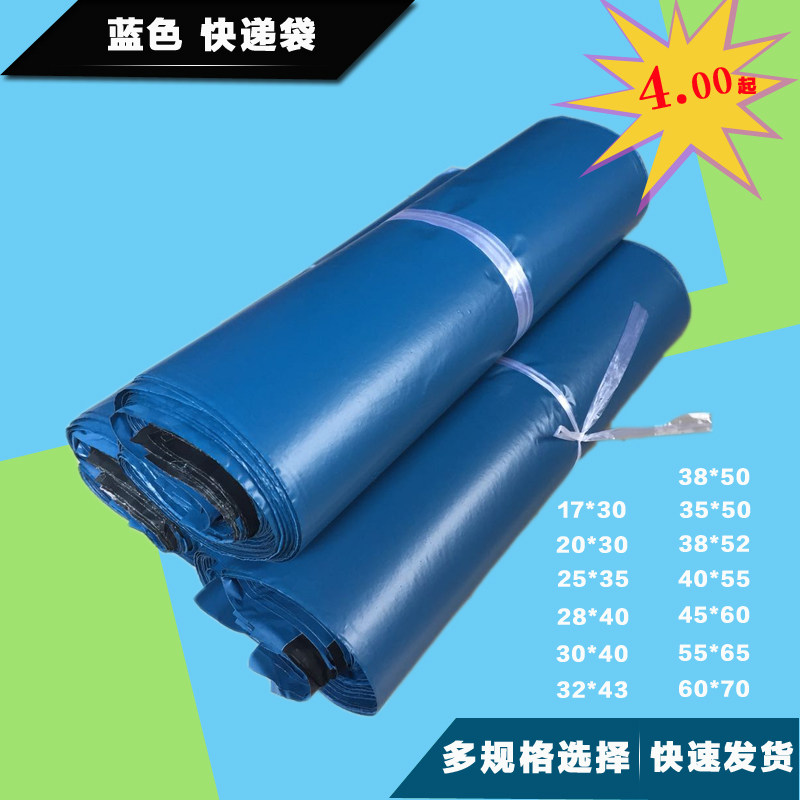Parcel: (67, 118, 708, 714)
